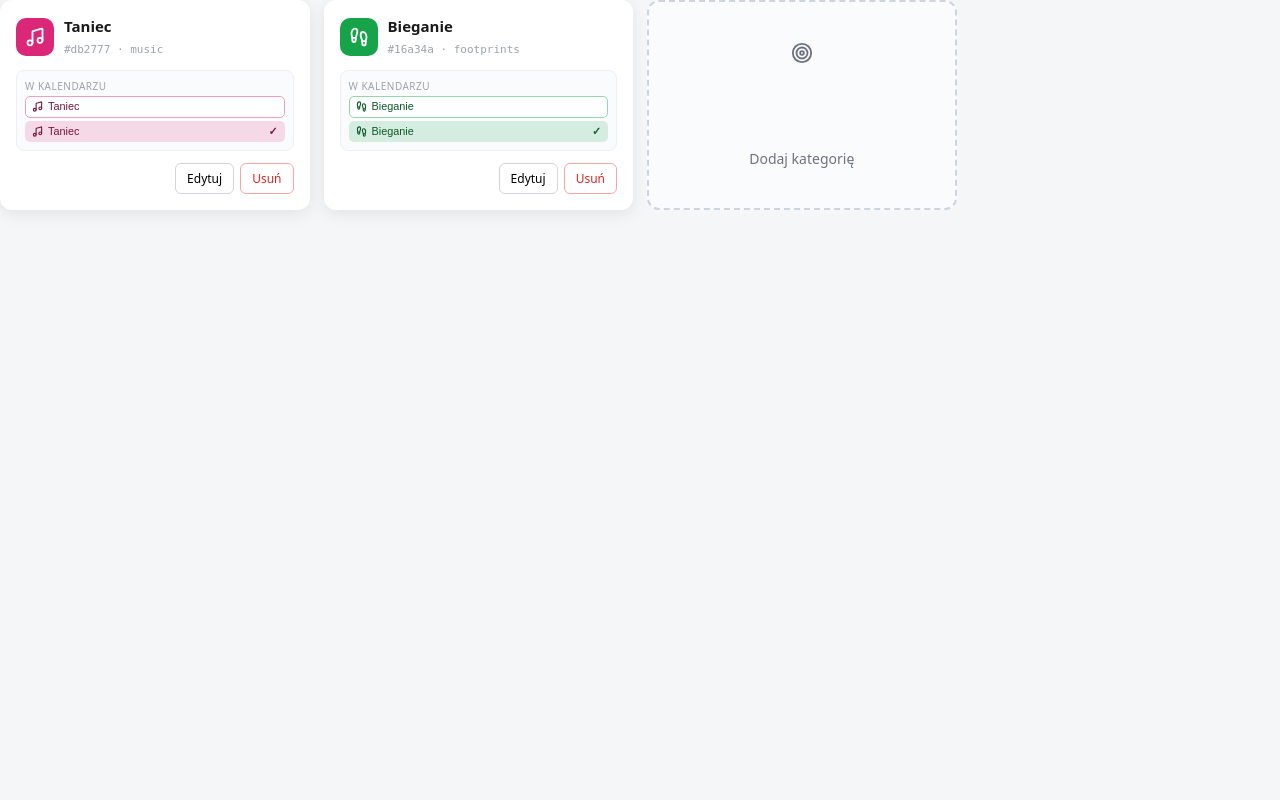
AdminCategoriesPage › siatka ikon powstaje z odpowiedzi serwera, nie z listy we froncie
Click the button "Dodaj kategorię": (802, 159) left=647, top=0, right=956, bottom=210
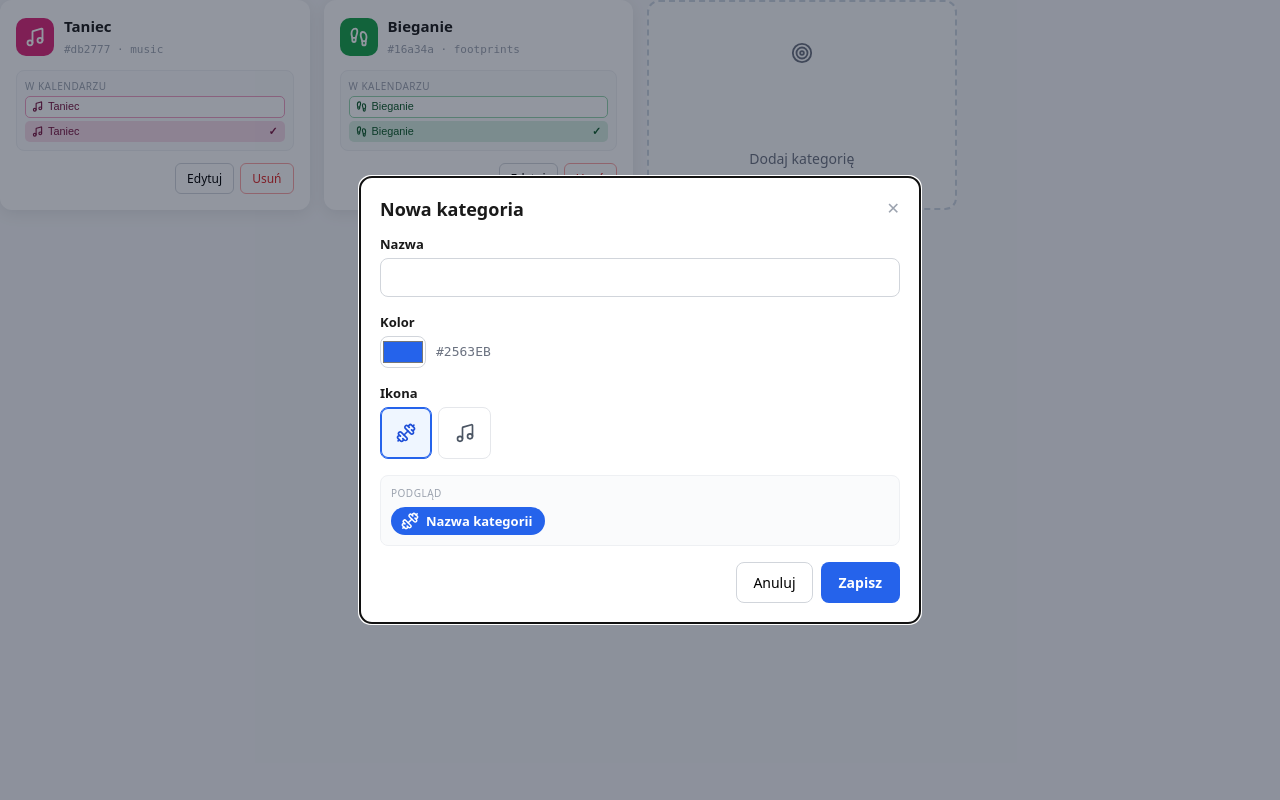
Now the number of radio buttons is 2, box left=380, top=407, right=432, bottom=459; left=438, top=407, right=491, bottom=459
